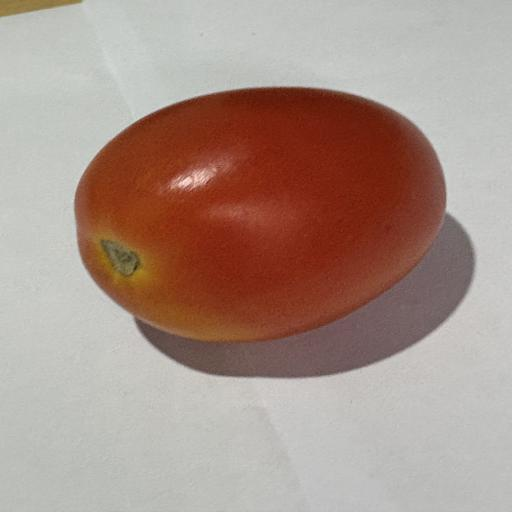ripe: (75, 87, 445, 341)
